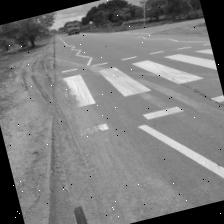crossing: (48, 0, 224, 224), (136, 102, 224, 213), (97, 58, 151, 102)
